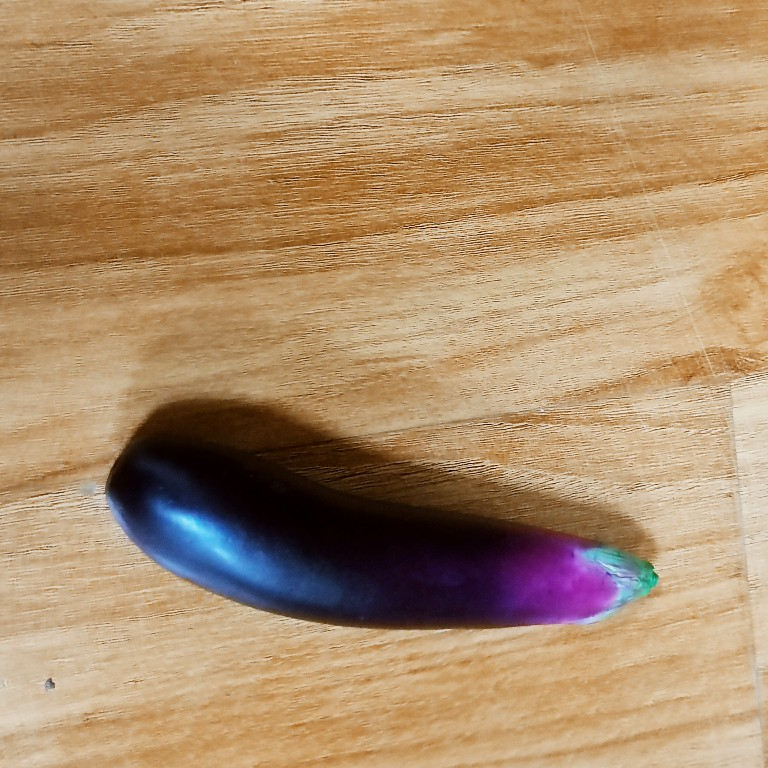fruit_eggplant: (98, 439, 667, 635)
